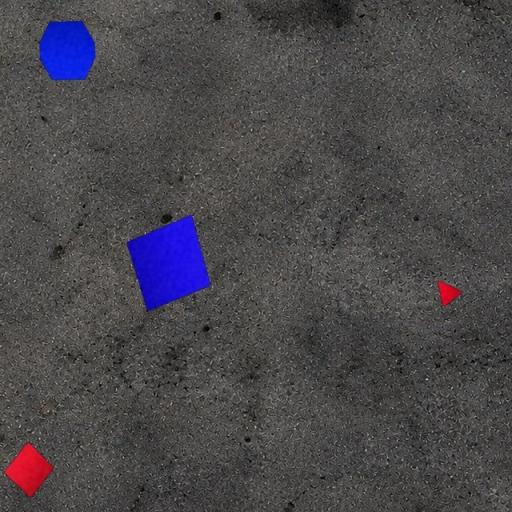BLUE_SQUARE: (126, 214, 212, 312)
RED_SQUARE: (3, 442, 55, 498)
